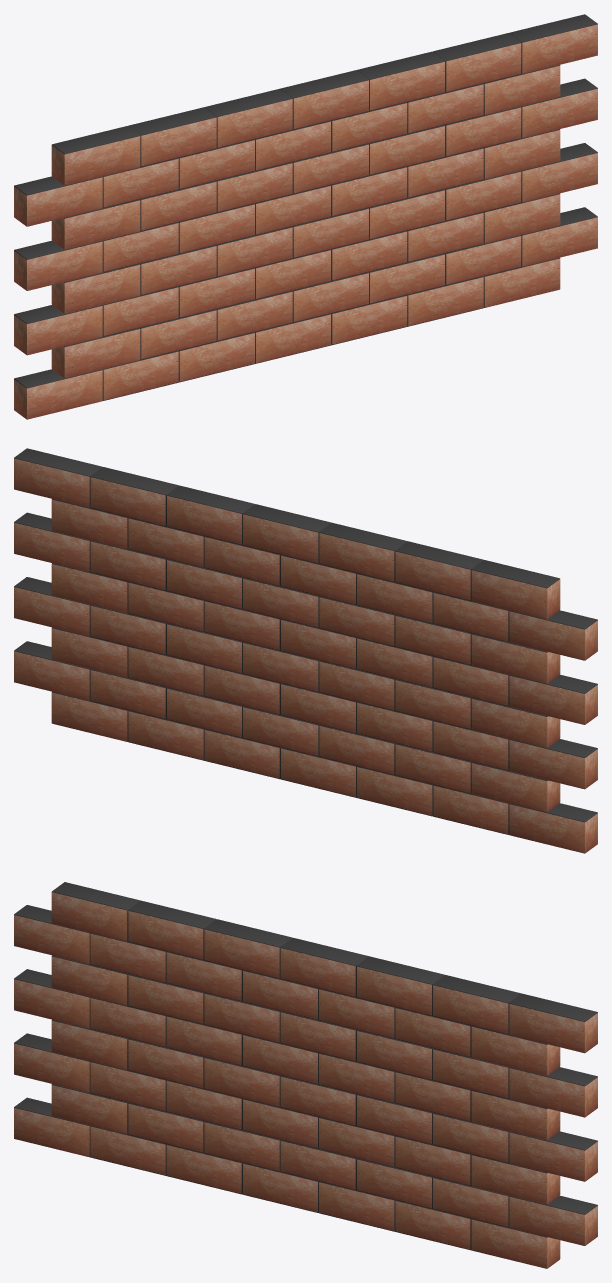
File: pared trozo.FBX
3 views of the same model, one above another, from view 1: azimuth 30°, elevation 25°; view 2: azimuth 150°, elevation 25°; view 3: azimuth 330°, elevation 25° (orthographic).
Parts seen in each view (by area): view 1: Box057, Box051, Box053, Box056, Box054, Box052, Box055, Box008, Box050, Box022, Box036, Box023 (+44 smaller); view 2: Box057, Box051, Box053, Box056, Box054, Box052, Box055, Box008, Box050, Box022, Box036, Box023 (+44 smaller); view 3: Box051, Box052, Box053, Box055, Box056, Box054, Box057, Box023, Box009, Box037, Box036, Box008 (+44 smaller).
Part boxes in pixels (x1,y1,x2,y2): Box057: (51,126,140,185); Box051: (509,14,597,73); Box053: (357,51,445,111); Box056: (128,107,216,166); Box054: (280,70,369,129); Box052: (433,33,521,92); Box055: (204,88,292,148); Box008: (14,369,102,419); Box050: (14,176,102,226); Box022: (14,305,102,355); Box036: (14,240,102,290); Box023: (521,143,597,202); Box057: (471,560,560,619); Box051: (14,448,102,507); Box053: (166,485,254,545); Box056: (395,541,483,600); Box054: (242,504,331,563); Box052: (90,467,178,526); Box055: (319,522,407,582); Box008: (509,803,597,853); Box050: (509,610,597,660); Box022: (509,739,597,789); Box036: (509,674,597,724); Box023: (14,577,90,636); Box051: (509,993,597,1053); Box052: (432,975,521,1034); Box053: (356,956,444,1015); Box055: (204,919,292,978); Box056: (127,900,216,960); Box054: (280,938,368,997); Box057: (51,882,140,941); Box023: (509,1131,597,1181); Box009: (509,1195,597,1245); Box037: (509,1067,597,1117); Box036: (14,969,89,1028); Box008: (14,1097,89,1157).
Size of the model in its own units: 175 by 75.24 by 6.98.
